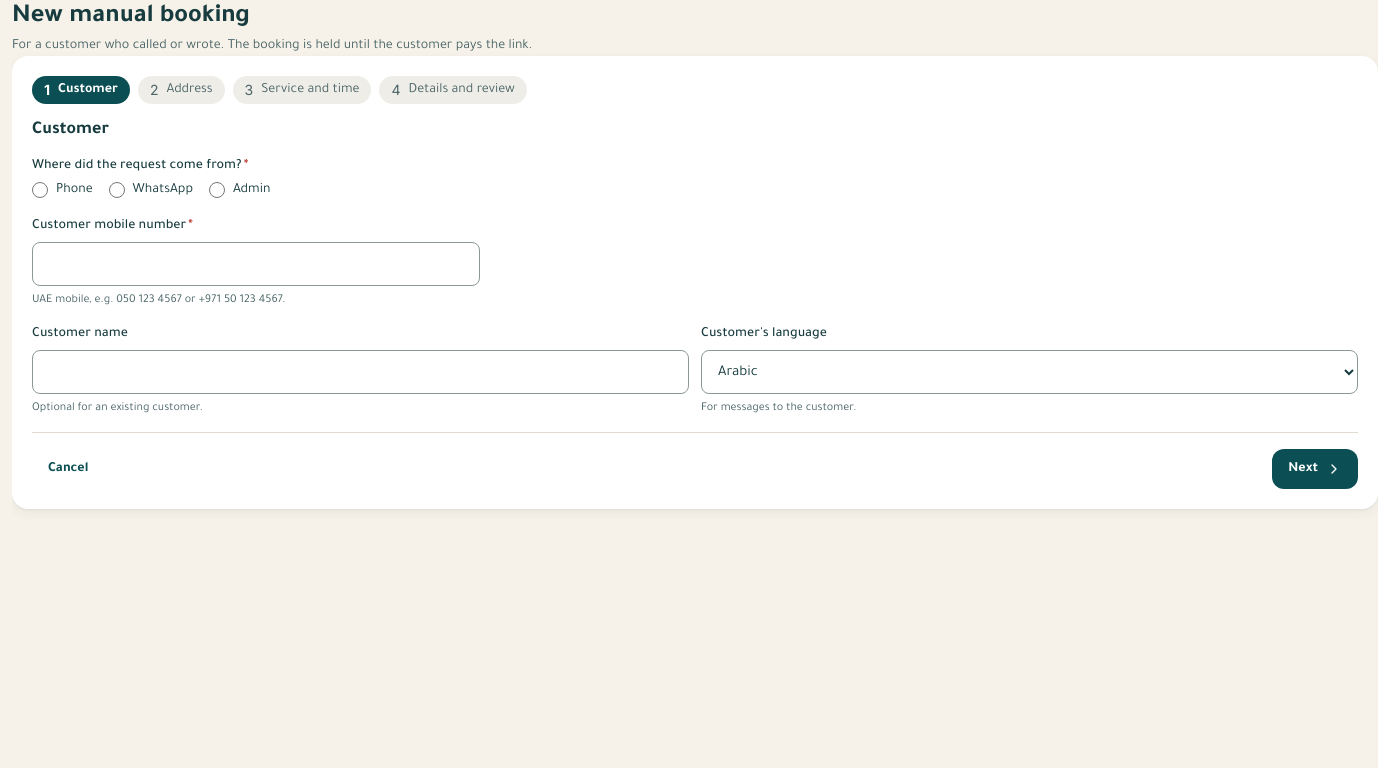
it: A03 manual booking wizard › waits out a rate-limited lookup and tries again after the seconds the API names
In the field labelled "Customer mobile number*": x=256, y=264 [32,242,480,286], type "0500000002"
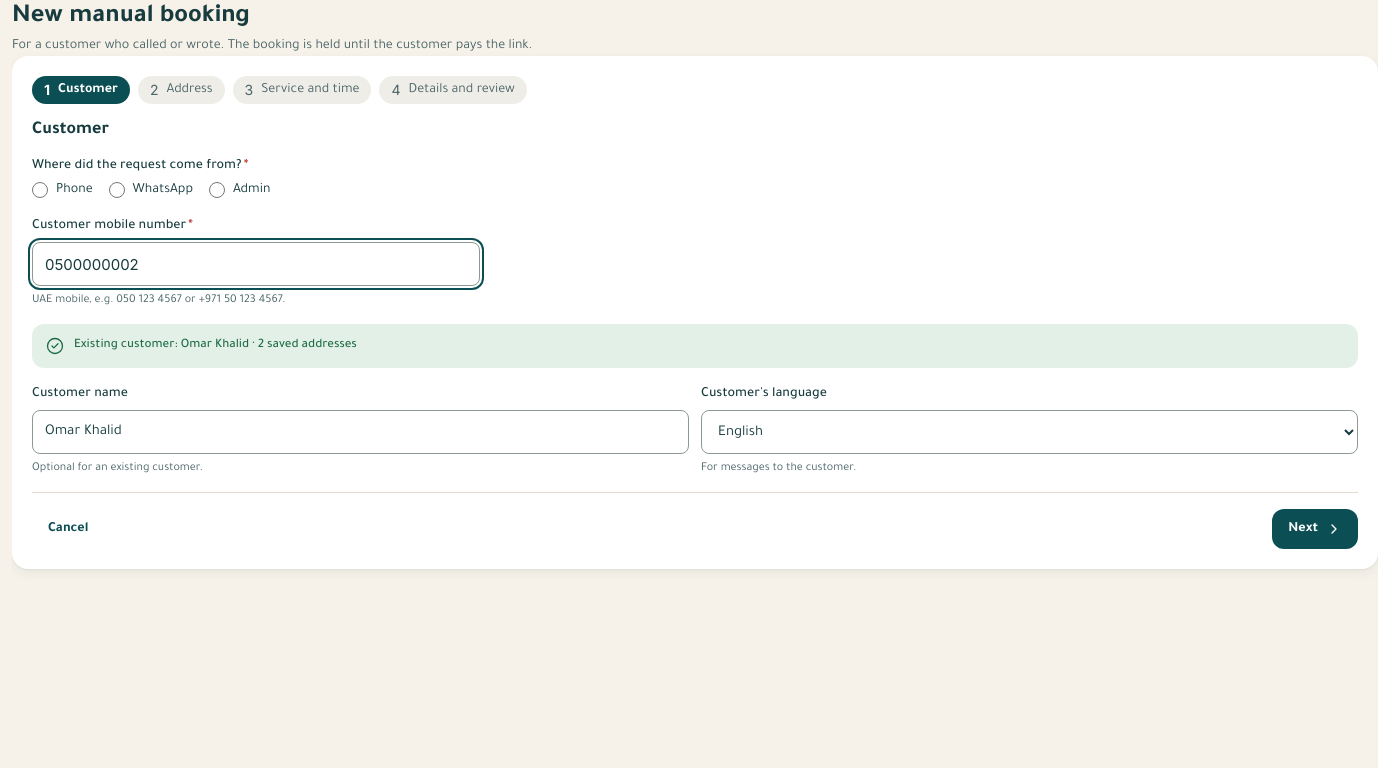
Result: the text "Existing customer: Omar Khalid · 2 saved addresses" is shown at [74,339,357,352]
